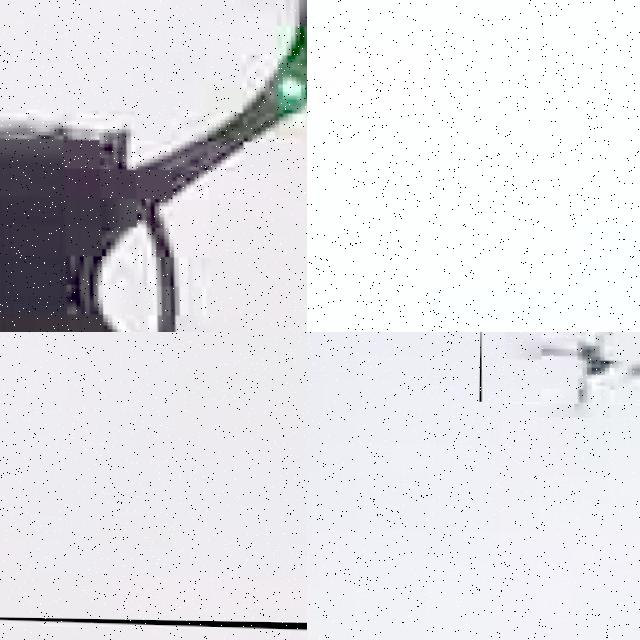drone: (0, 0, 307, 332), (479, 332, 640, 406)
